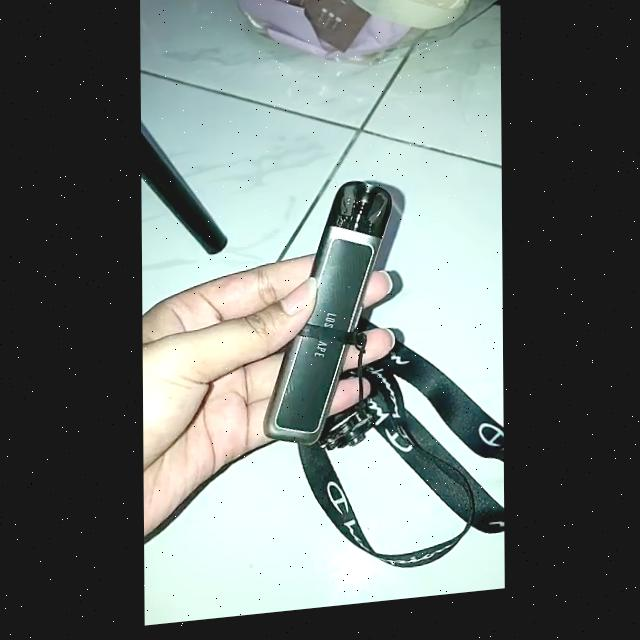vape: (259, 185, 401, 445)
